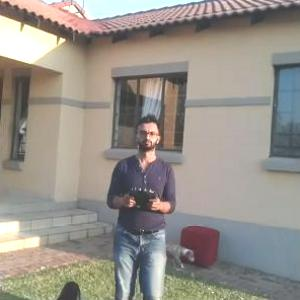follow: (100, 107, 182, 299)
null: (163, 235, 197, 272)
